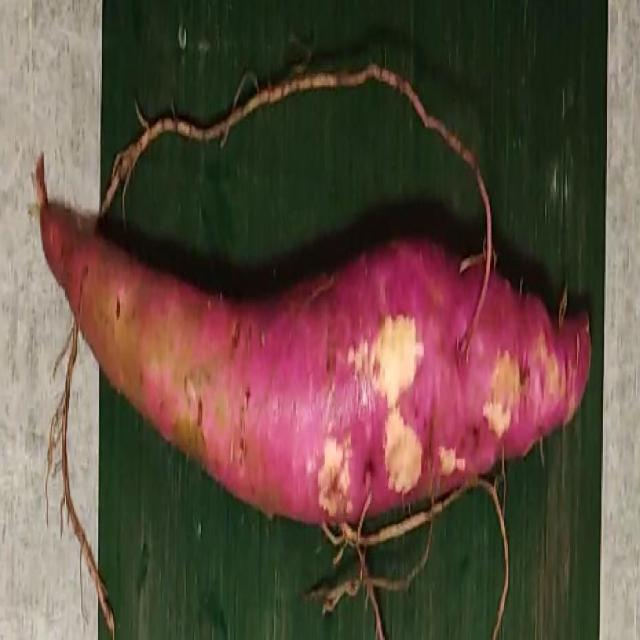Sweet Potato: (39, 198, 590, 531)
